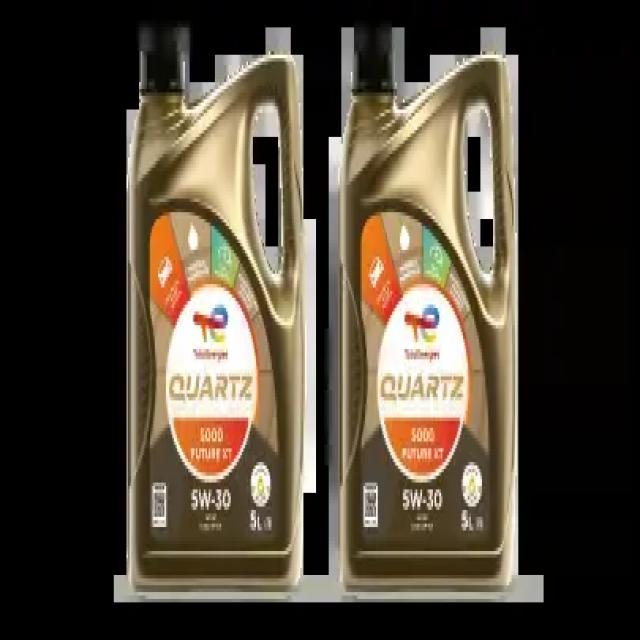motor_oil: (123, 37, 308, 601), (338, 39, 520, 600)
